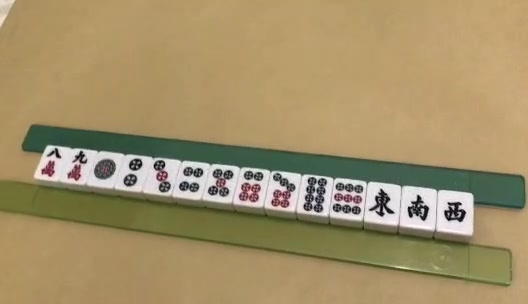1p: (93, 158, 117, 180)
1z: (367, 187, 394, 218)
2p: (123, 159, 144, 187)
2z: (408, 196, 430, 222)
3p: (155, 161, 171, 192)
3z: (444, 201, 467, 222)
4p: (178, 166, 203, 193)
5p: (209, 168, 231, 197)
6p: (238, 170, 264, 204)
7p: (272, 173, 296, 209)
8m: (40, 147, 62, 177)
8p: (305, 176, 325, 212)
9m: (66, 150, 87, 181)
9p: (332, 183, 364, 214)
